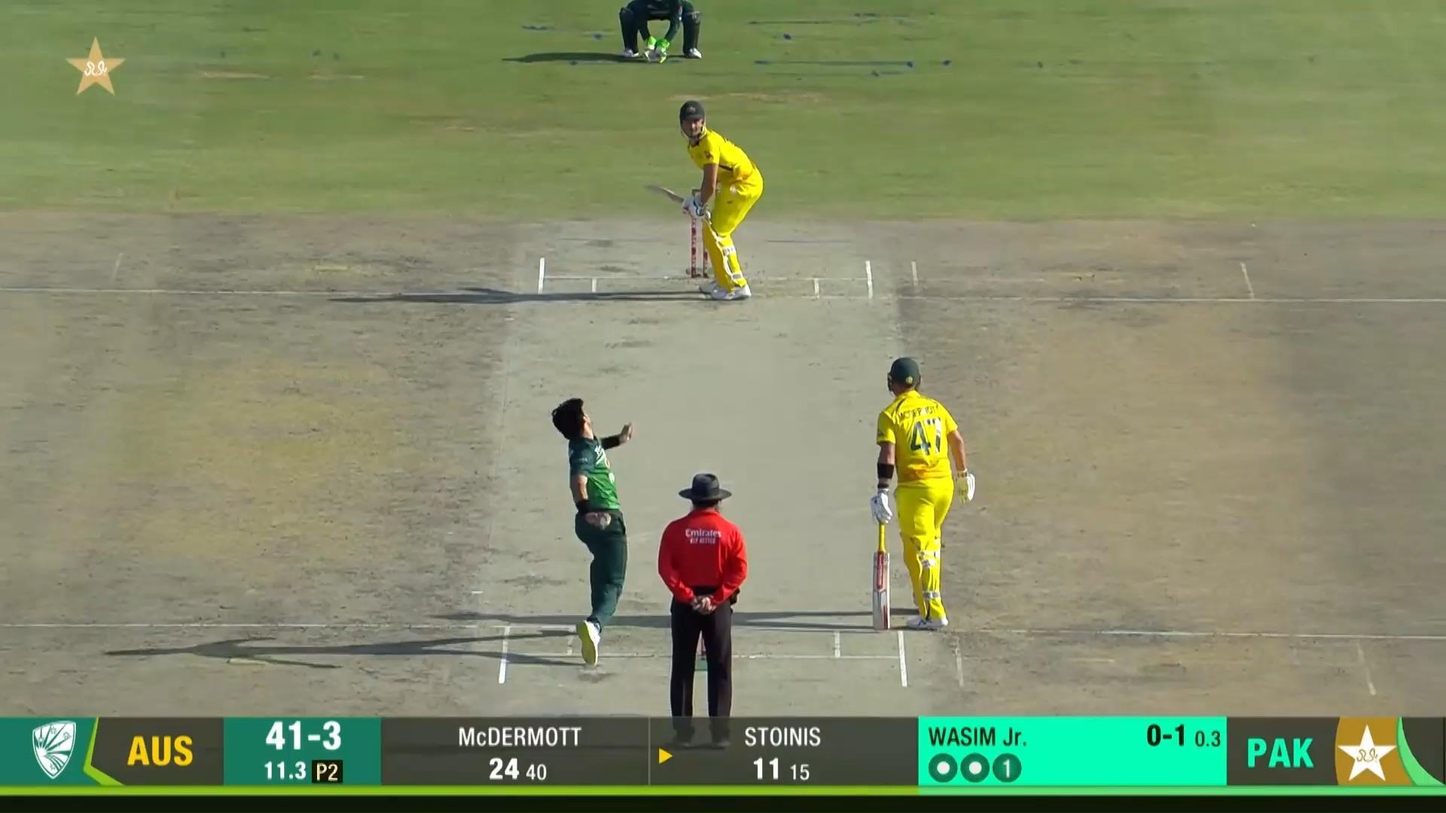BM 1: (641, 99, 765, 303)
BO: (550, 395, 635, 666)
